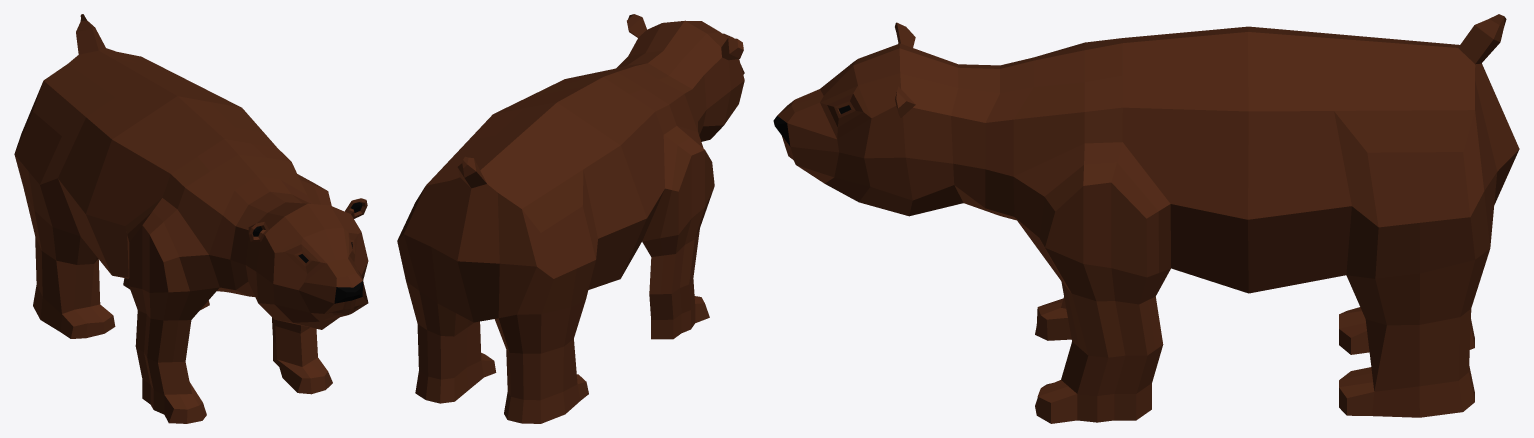
Rendered from meska3.glb.
The picture shows the model from 3 angles, left to right: view 1: azimuth 30°, elevation 25°; view 2: azimuth 150°, elevation 25°; view 3: azimuth 270°, elevation 25°; orthographic projection. The views are drawn at different scales.
Parts seen in each view (by area): view 1: meska; view 2: meska; view 3: meska.
Boxes of the visible parts, bbox=[...] form: meska: bbox=[14, 14, 368, 423]; meska: bbox=[397, 14, 744, 423]; meska: bbox=[773, 14, 1519, 423].
Bounding box in the file's own units: 1.5 × 2.08 × 3.95.
